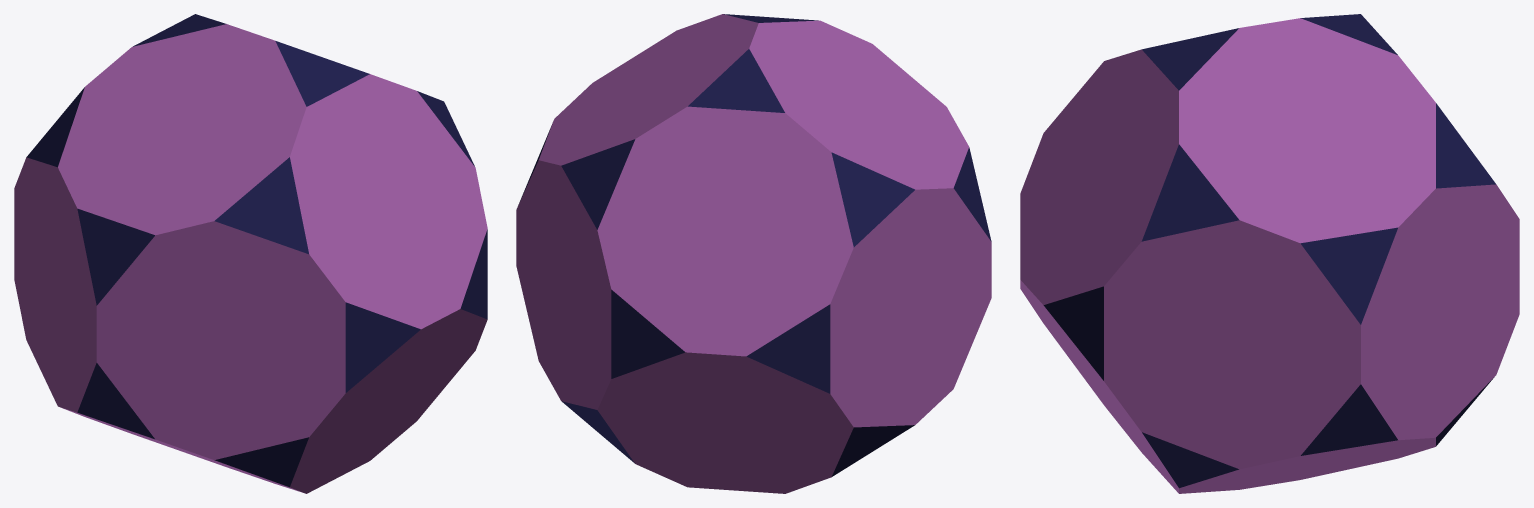
Rendered from t-dodecahedron.fbx.
3 renders of one model, left to right at view 1: azimuth 30°, elevation 25°; view 2: azimuth 150°, elevation 25°; view 3: azimuth 270°, elevation 25°, orthographic. The views are drawn at different scales.
Parts seen in each view (by area): view 1: polyhedronisme-tD; view 2: polyhedronisme-tD; view 3: polyhedronisme-tD.
Boxes of the visible parts, x1=… form: polyhedronisme-tD: x1=14, y1=14, x2=487, y2=493; polyhedronisme-tD: x1=516, y1=14, x2=991, y2=493; polyhedronisme-tD: x1=1020, y1=14, x2=1519, y2=493.
Size of the model in its own units: 185 by 198 by 194.
